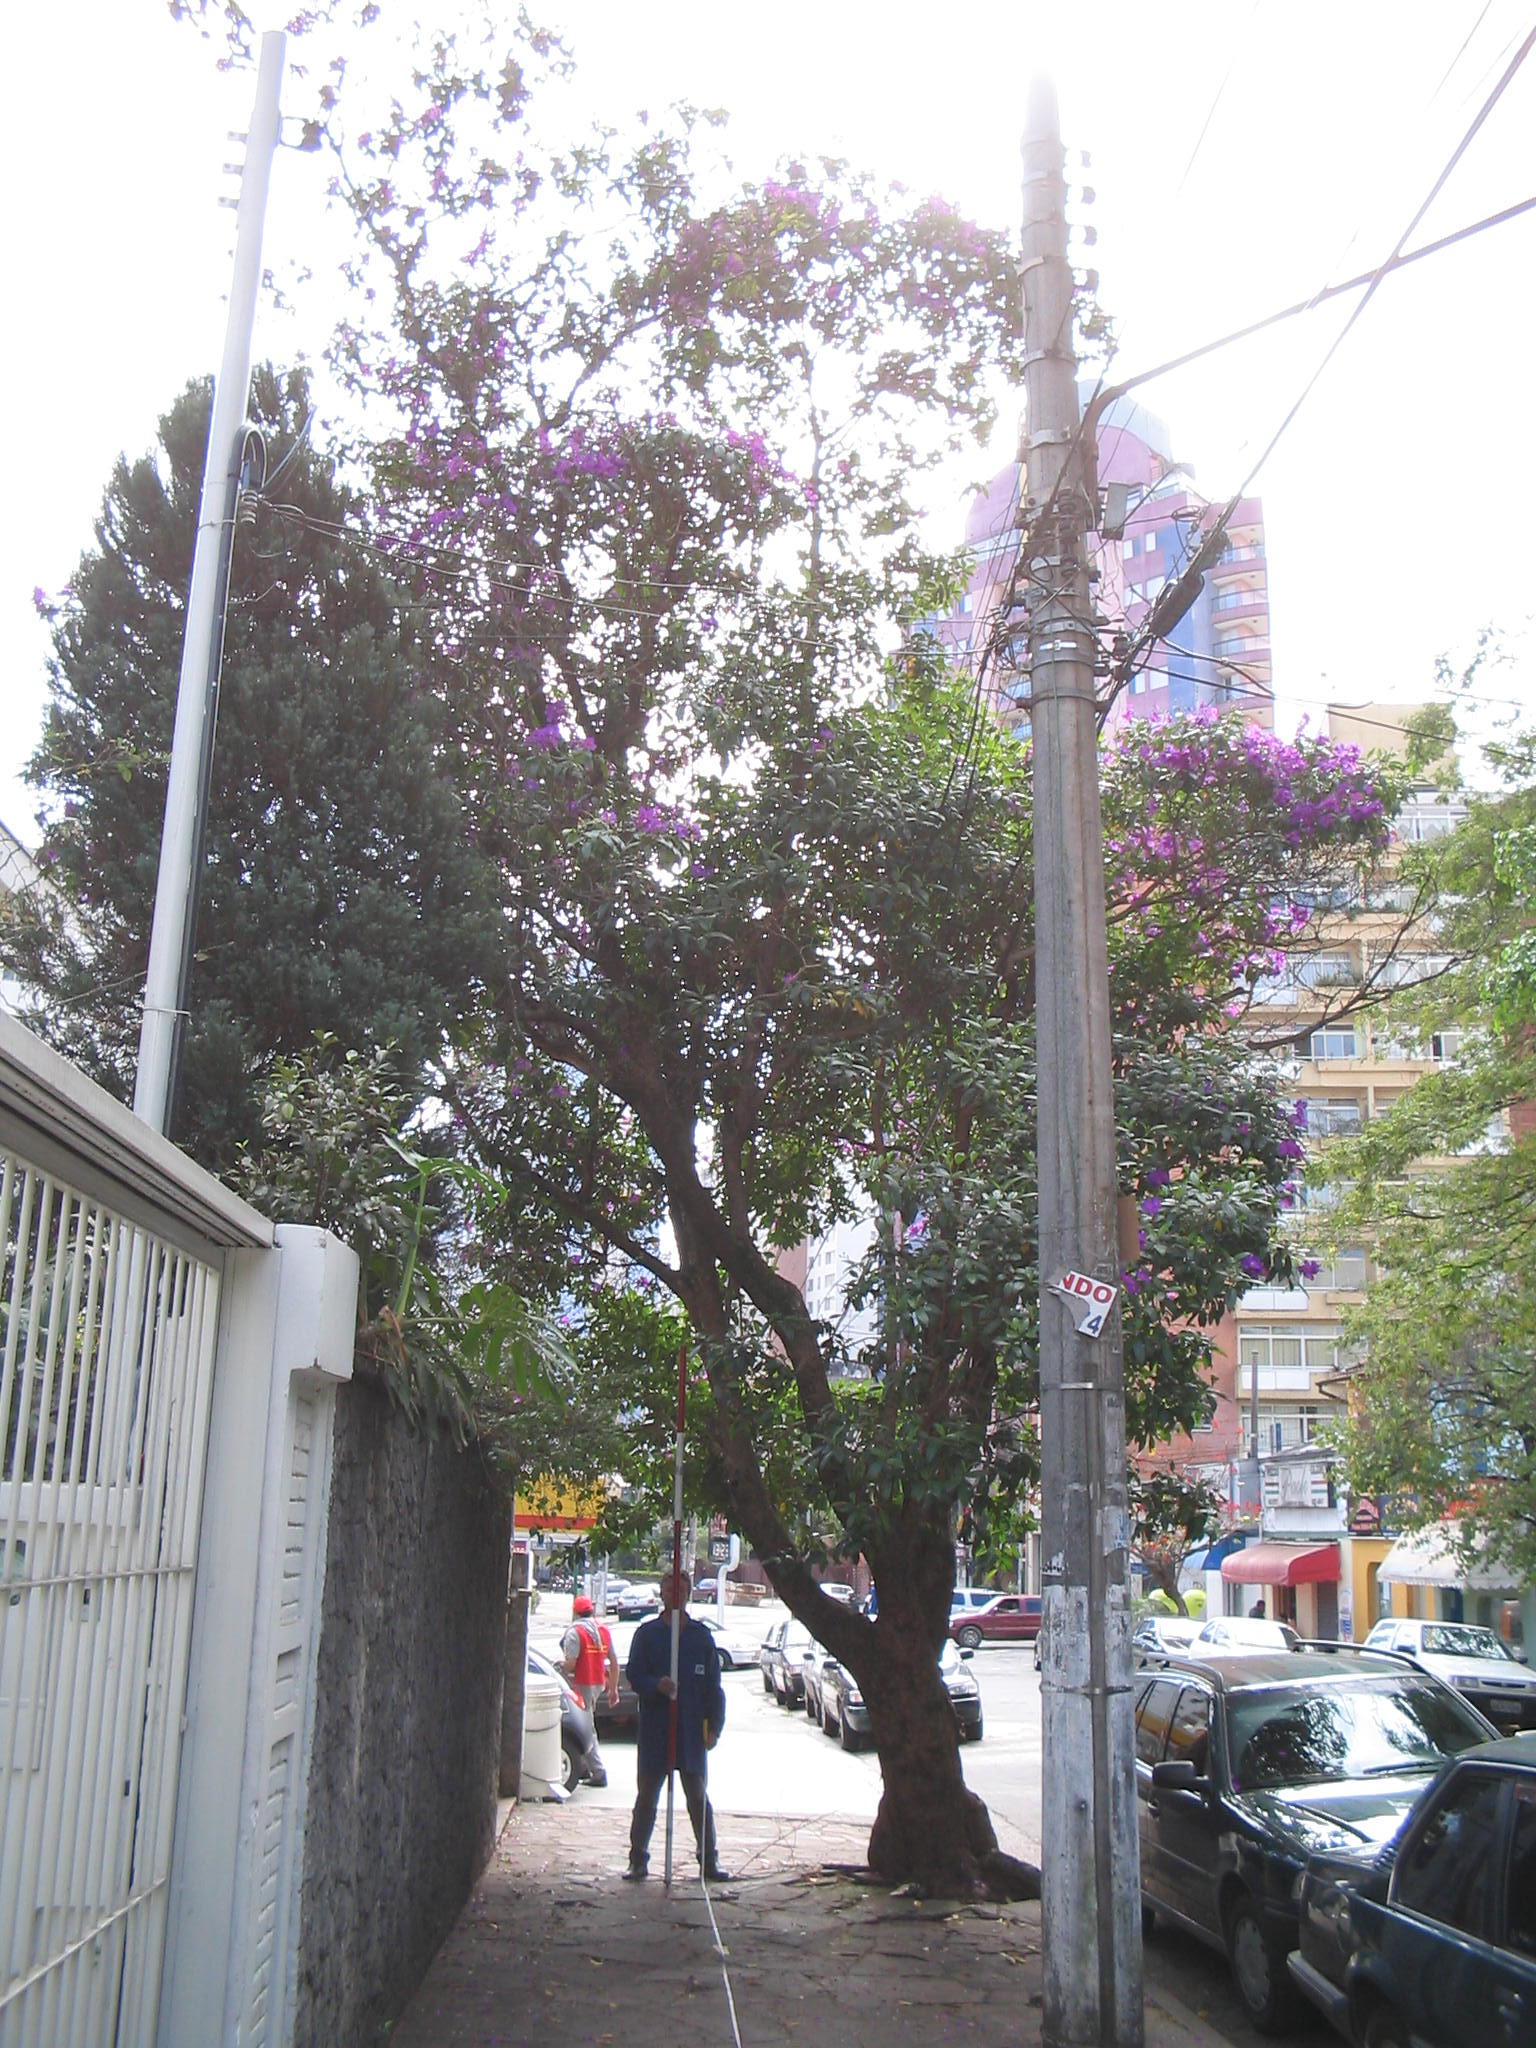crown: (173, 8, 1371, 1463)
stem: (795, 1645, 1050, 1903)
stick: (623, 1345, 716, 1887)
tree: (165, 3, 1388, 1911)
